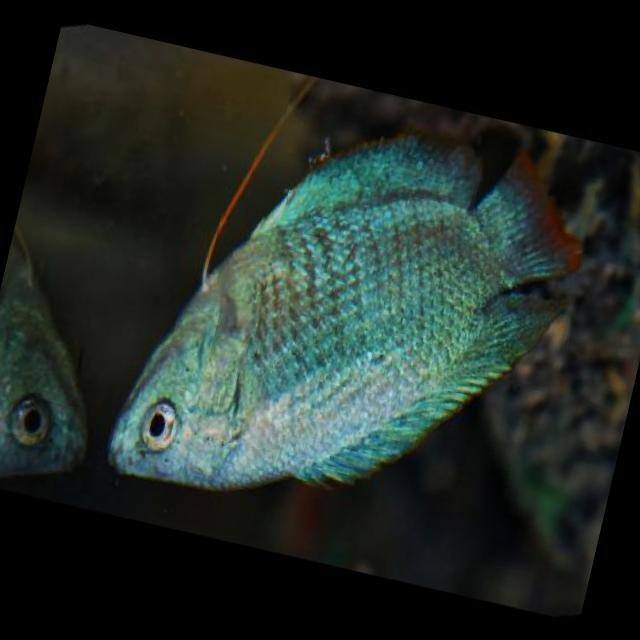Gourami: (97, 74, 602, 570)
